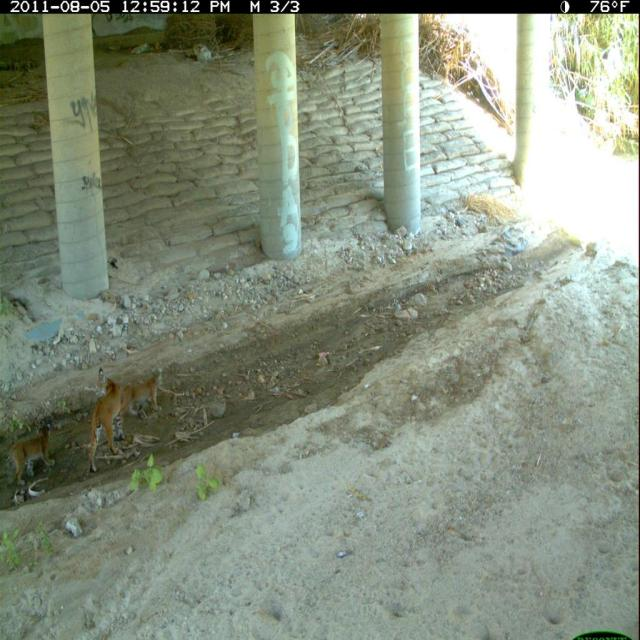bobcat: (87, 364, 127, 477), (2, 419, 63, 491), (116, 363, 170, 424)
